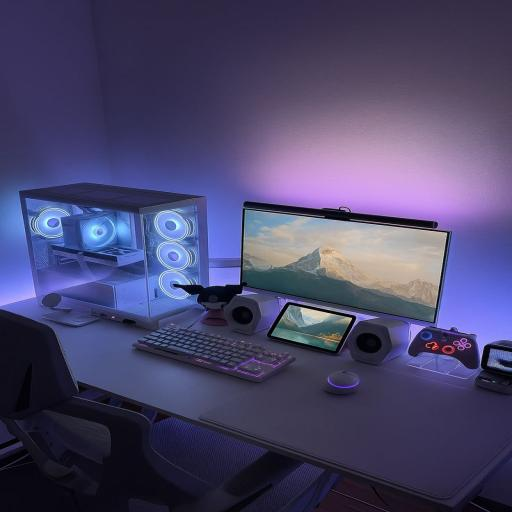computer case: (19, 183, 208, 326)
monitor: (240, 203, 450, 324)
